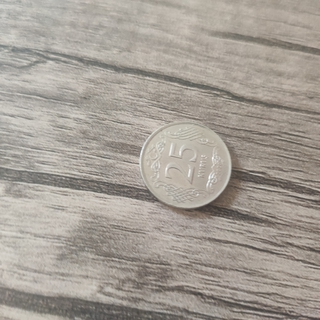25KURUS: (137, 119, 233, 211)
